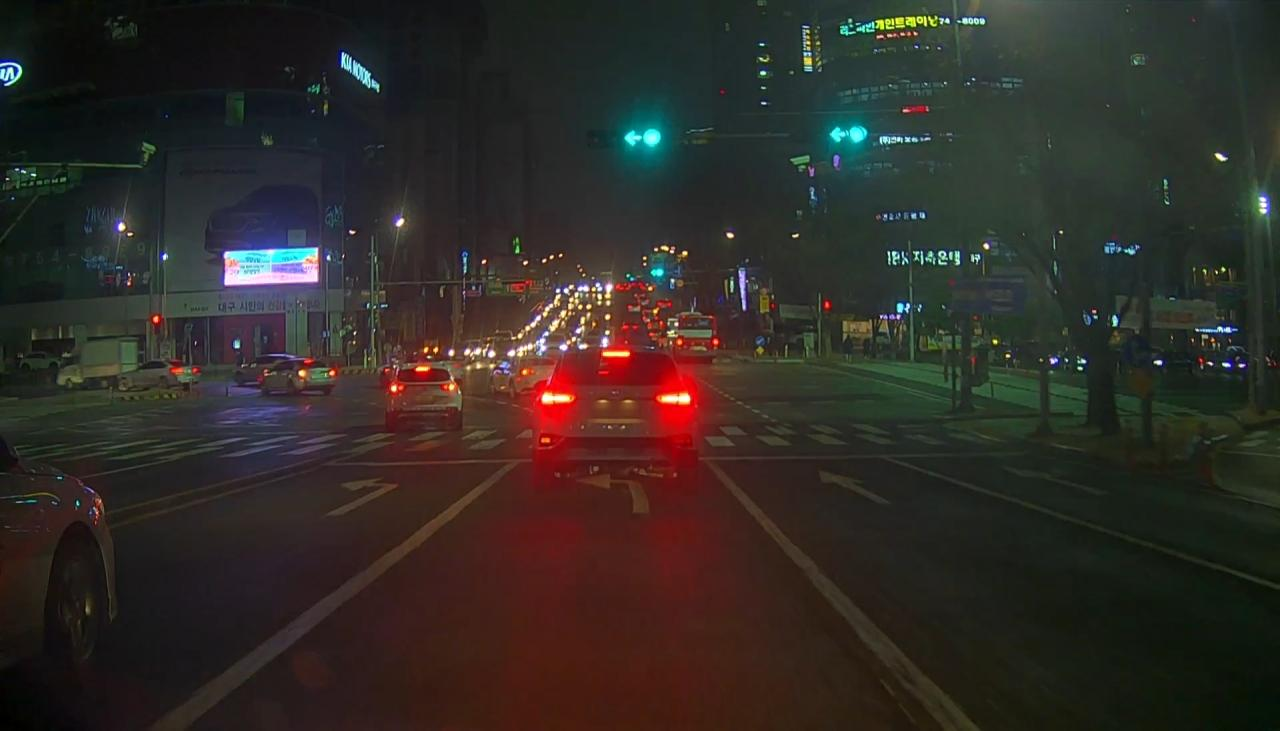Green Light: (848, 124, 868, 146), (643, 129, 663, 148)
Left turn: (828, 125, 848, 144), (624, 130, 643, 149)
